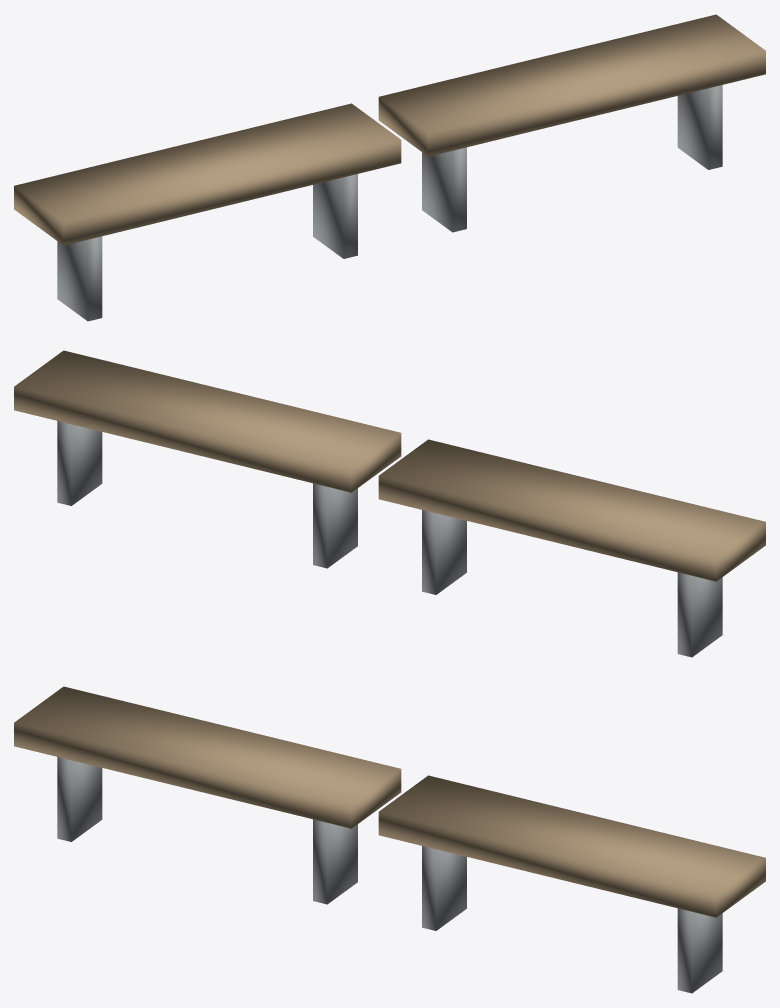
File: gallery_bench__cluster.glb
3 views of the same model, one above another, from view 1: azimuth 30°, elevation 25°; view 2: azimuth 150°, elevation 25°; view 3: azimuth 330°, elevation 25° (orthographic).
Visible parts, largest first — view 1: world; view 2: world; view 3: world.
Part boxes in pixels (x1=…): world: x1=14, y1=14, x2=765, y2=321; world: x1=14, y1=350, x2=765, y2=657; world: x1=14, y1=686, x2=765, y2=993.
Size of the model in its own units: 3.43 by 0.535 by 0.42.
